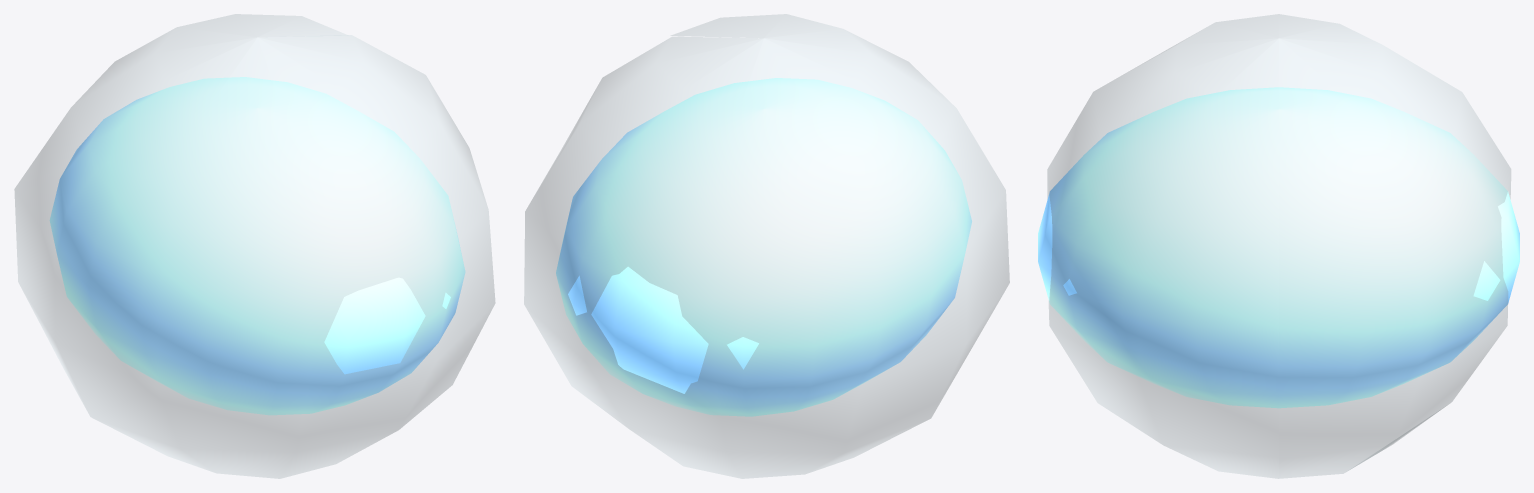
Rendered from fruit-watermelon-frozen.gltf.
3 views of the same model, side by side, from view 1: azimuth 30°, elevation 25°; view 2: azimuth 150°, elevation 25°; view 3: azimuth 270°, elevation 25° (orthographic).
Size of the model in its own units: 1.35 by 1.3 by 1.35.
